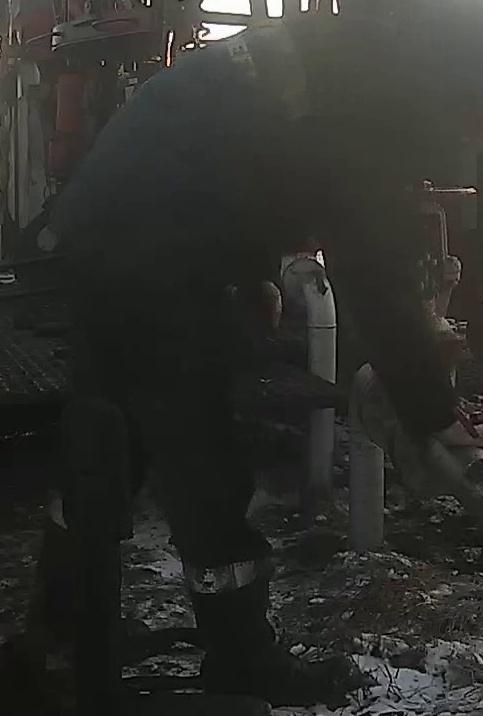vest: (36, 21, 354, 340)
